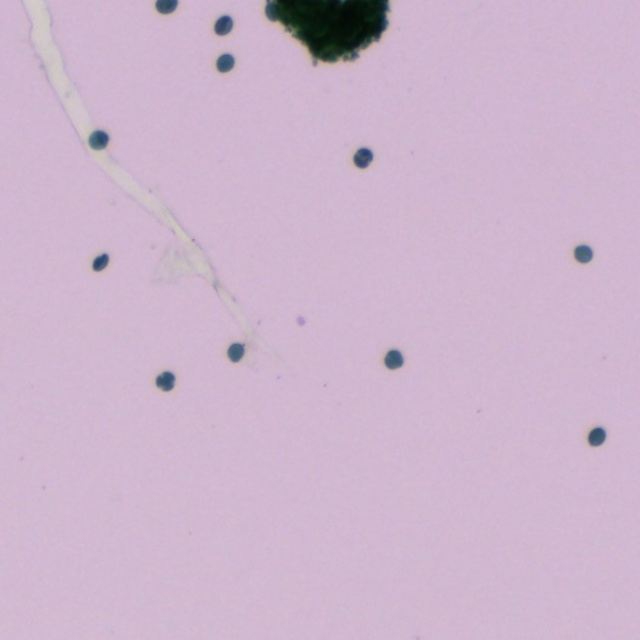non_viable: (353, 147, 372, 167), (89, 130, 108, 149), (384, 350, 402, 368), (156, 372, 174, 390), (587, 427, 605, 445), (214, 16, 232, 34), (216, 54, 234, 71), (227, 343, 244, 361), (574, 245, 591, 262), (156, 0, 177, 13), (93, 254, 107, 270)
